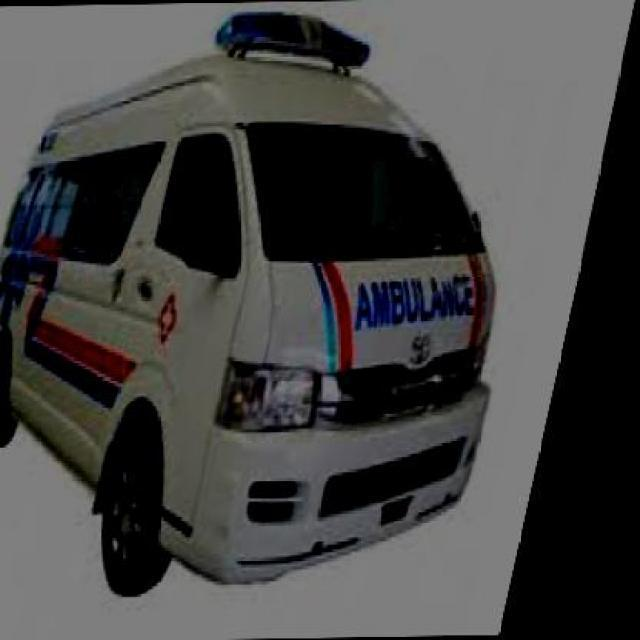emergency-vehicle: (0, 2, 578, 593)
